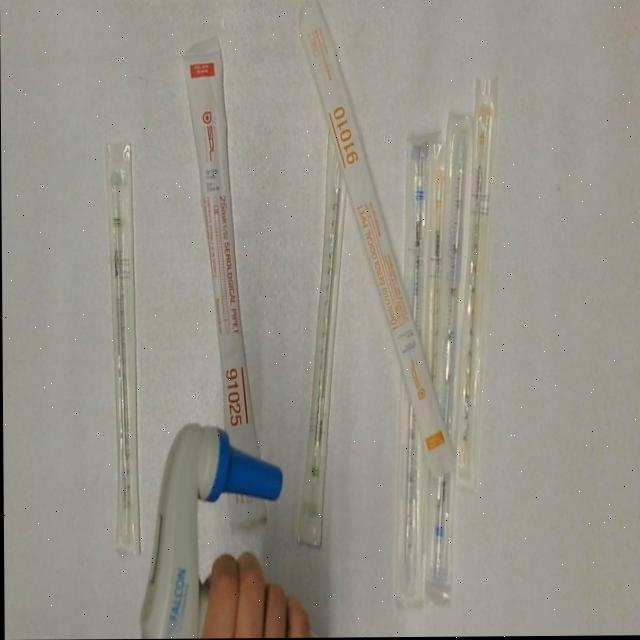Pipette Controller: (134, 415, 288, 639)
Serelogical Pipet 1 mL: (449, 76, 506, 491), (418, 142, 457, 394)
Serelogical Pipet 10 mL: (295, 2, 453, 481)
Serelogical Pipet 2 mL: (292, 123, 359, 550), (107, 140, 143, 559)
Serelogical Pipet 25 mL: (182, 34, 282, 533)
Serelogical Pipet 5 mL: (421, 111, 479, 590), (390, 126, 439, 608)
